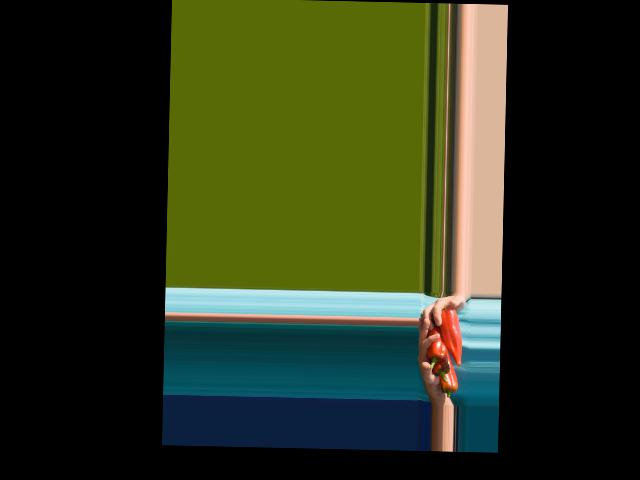bell_pepper: (437, 360, 458, 398)
